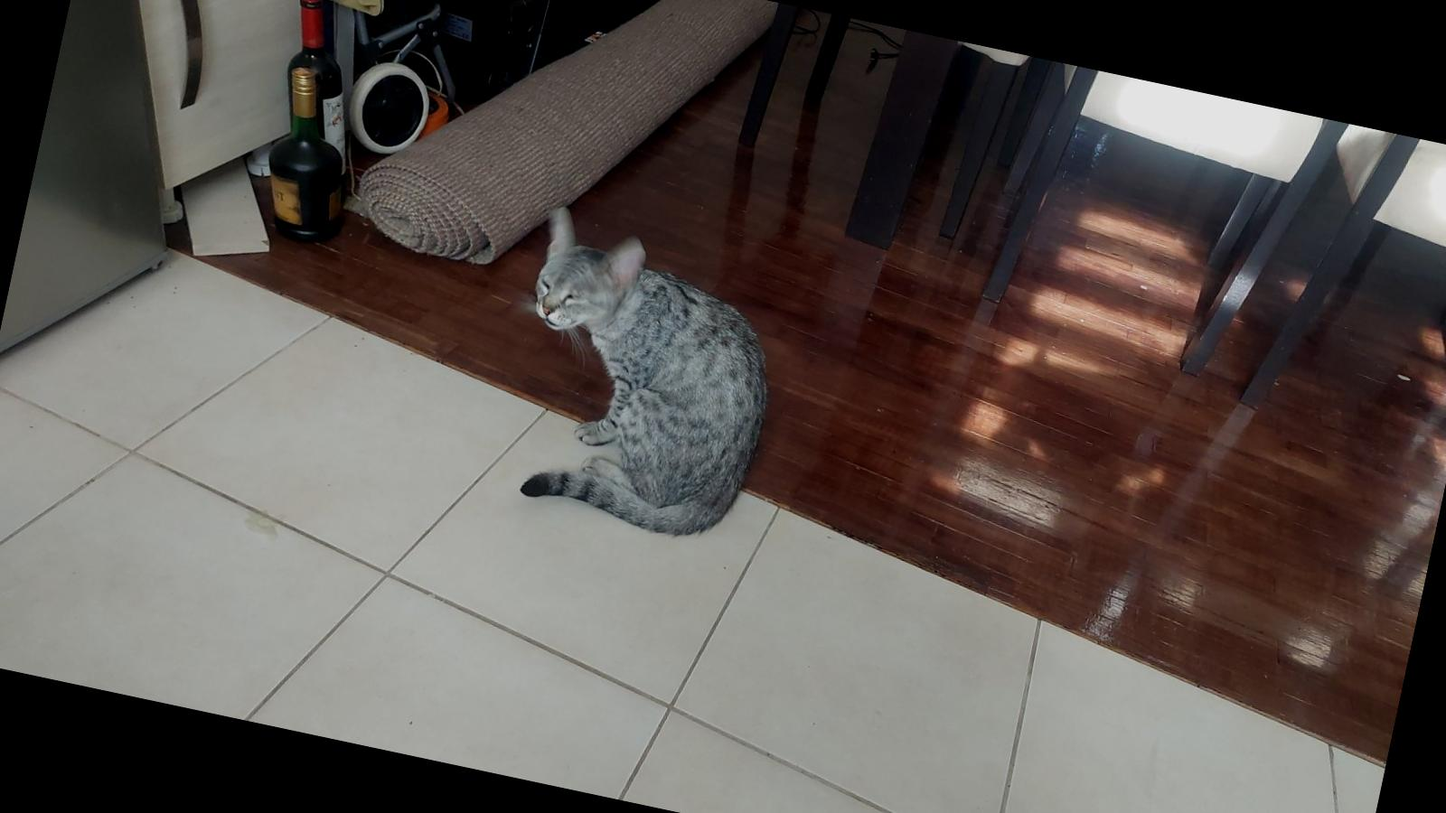macka: (490, 204, 800, 550)
